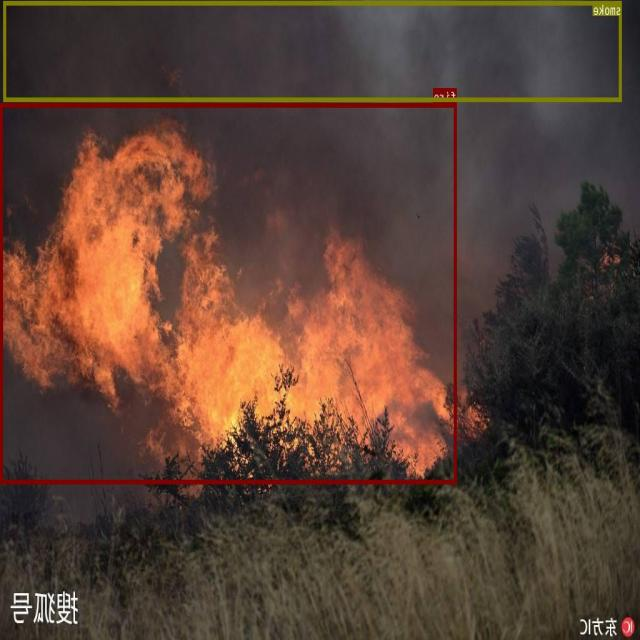fire: (1, 102, 457, 482)
smoke: (4, 0, 622, 101)
